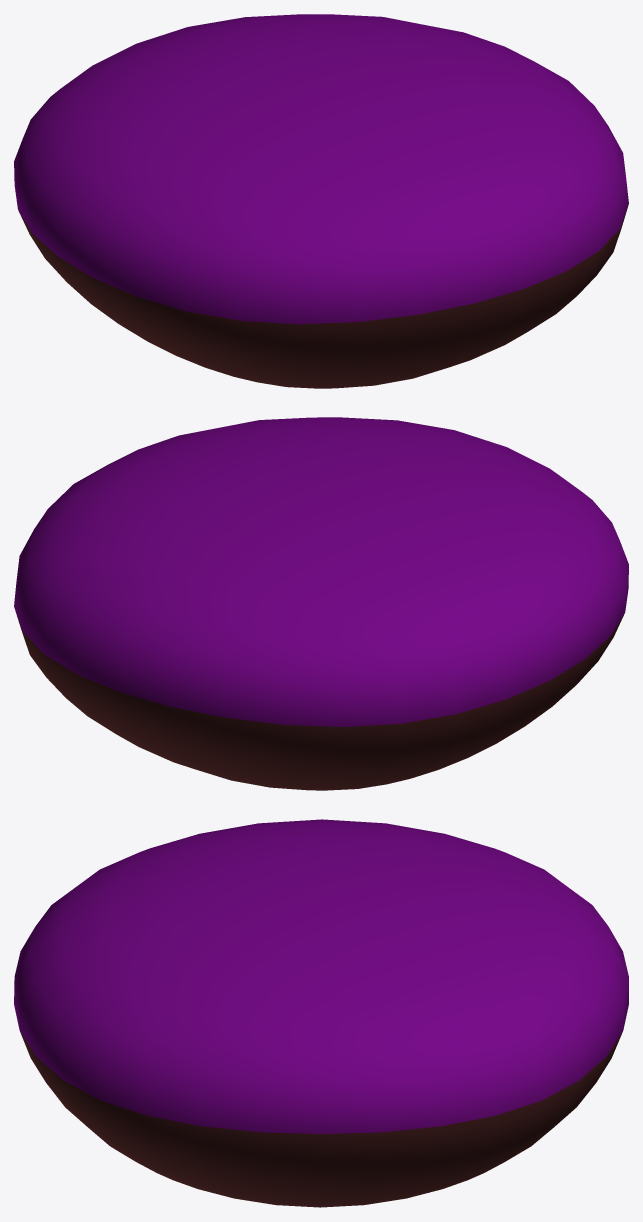
Rendered from alien_island.glb.
3 views of the same model, one above another, from view 1: azimuth 30°, elevation 25°; view 2: azimuth 150°, elevation 25°; view 3: azimuth 270°, elevation 25° (orthographic).
Parts seen in each view (by area): view 1: Cube; view 2: Cube; view 3: Cube.
Part boxes in pixels (x1,y1,x2,y2): Cube: [14, 14, 628, 388]; Cube: [14, 417, 628, 790]; Cube: [14, 819, 628, 1207].
Size of the model in its own units: 7.72 by 3.82 by 7.7.
